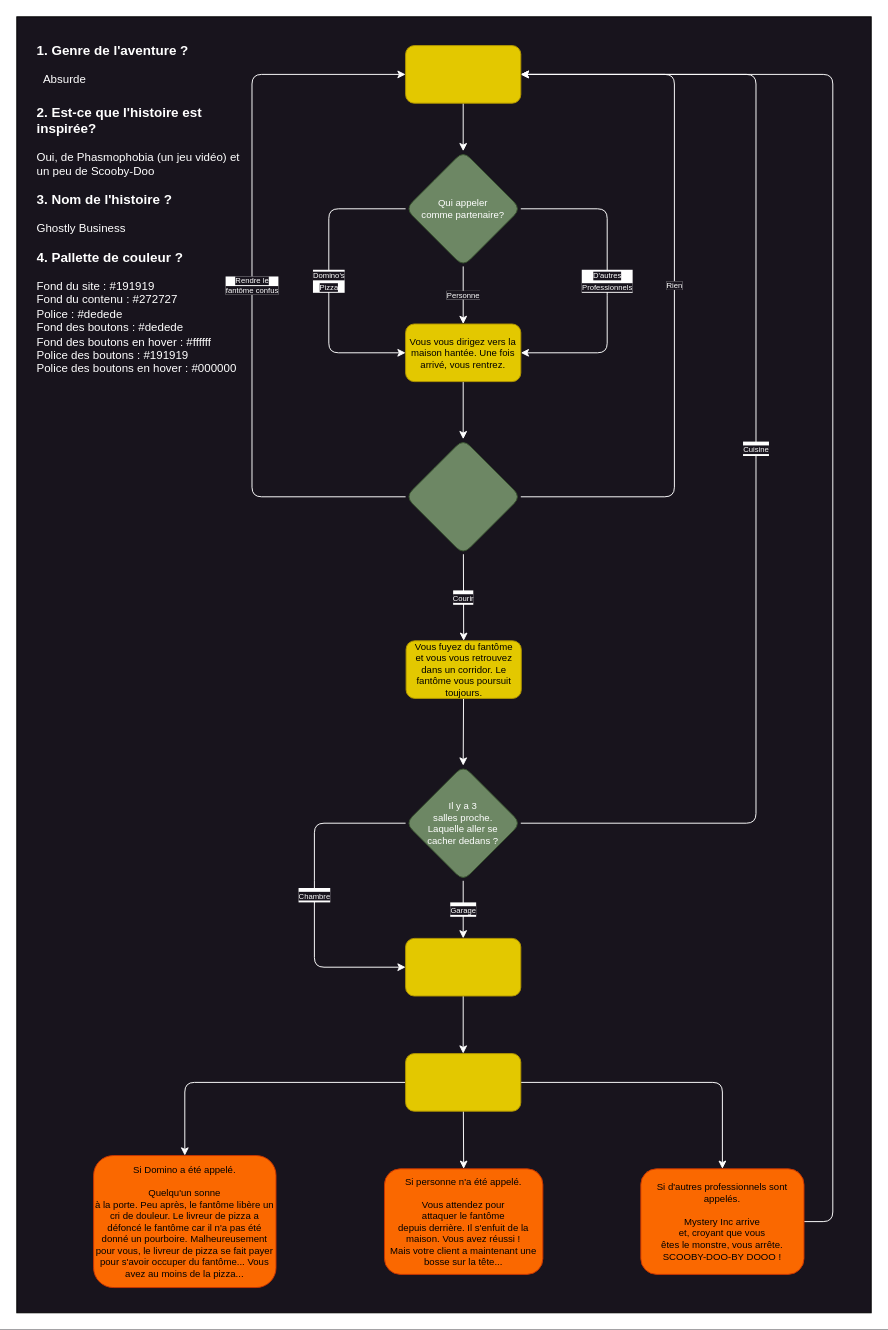
The diagram is 888 pixels wide and 1330 high, and some of its shapes have lost their labels. The box of each missing label's shape, as (x1, y1, x2, y2) in pixels:
Appel d'un client qui souhaite dégager un fantôme de sa maison: (405, 45, 521, 103)
Vous avez réussi à vous cacher: (405, 937, 521, 996)
Vous devez vous occuper du fantôme: (405, 1053, 521, 1111)
Vous tombez face-à-face avec le fantôme: (405, 438, 521, 554)
